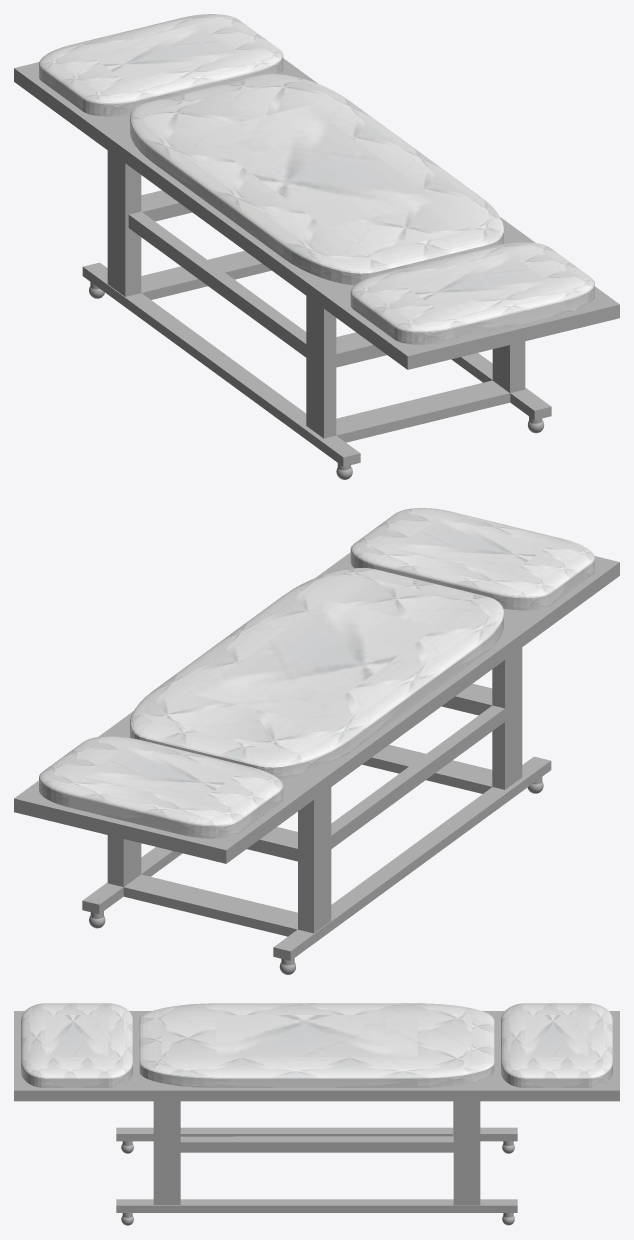
The model's file is sedyee.fbx.
3 renders of one model, top to bottom at view 1: azimuth 30°, elevation 25°; view 2: azimuth 150°, elevation 25°; view 3: azimuth 270°, elevation 25°, orthographic. The views are drawn at different scales.
Parts seen in each view (by area): view 1: Sphere.003; view 2: Sphere.003; view 3: Sphere.003.
Boxes of the visible parts, left/top/right/bottom form: Sphere.003: left=14, top=14, right=619, bottom=479; Sphere.003: left=14, top=508, right=619, bottom=974; Sphere.003: left=14, top=1003, right=619, bottom=1225.
Bounding box in the file's own units: 44.03 × 39.43 × 141.
